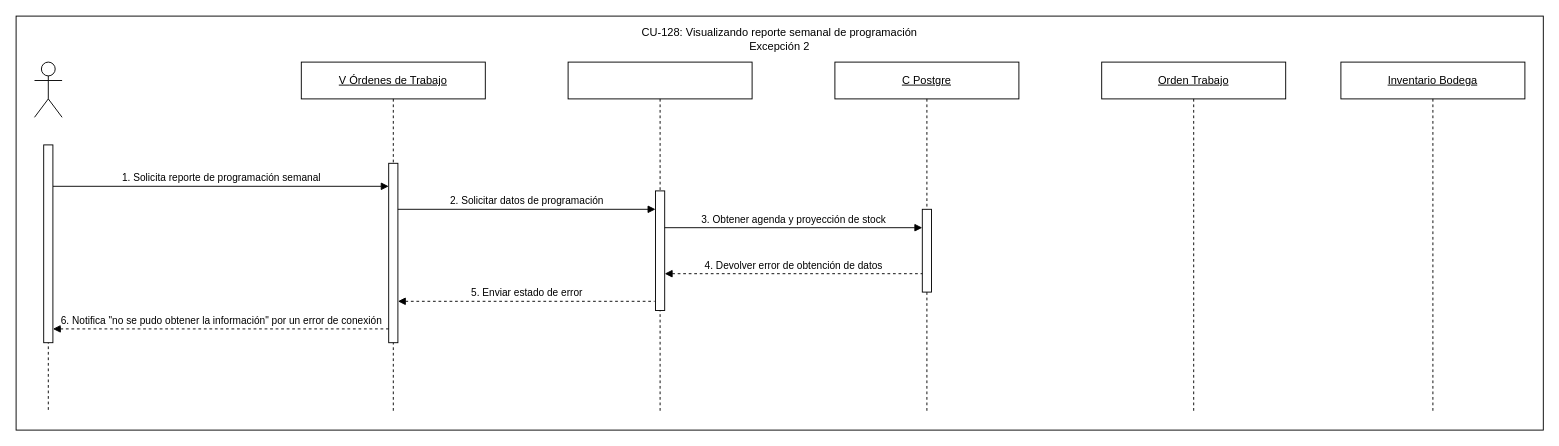
This 1559x446 diagram has some shape labels left out. Here are the shapes that lost their labels. From the top down, the box of each, then its label:
(34, 61, 62, 117): JOP
(567, 61, 752, 412): C reportes
